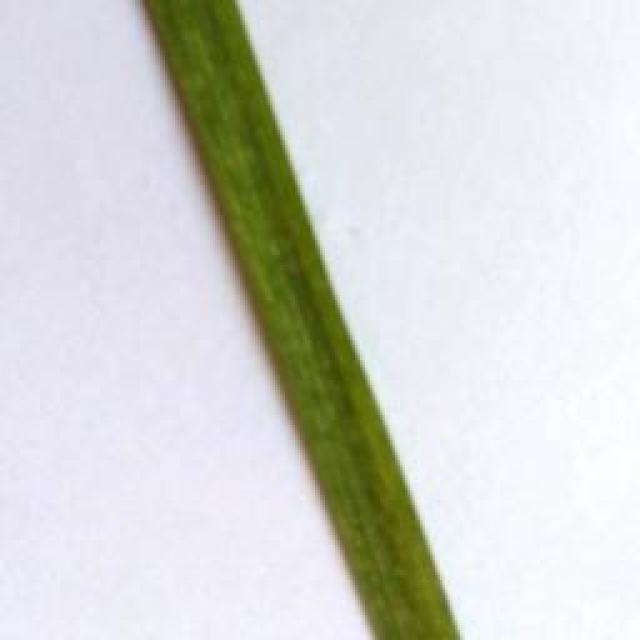Healthy-Plant: (145, 0, 460, 640)
